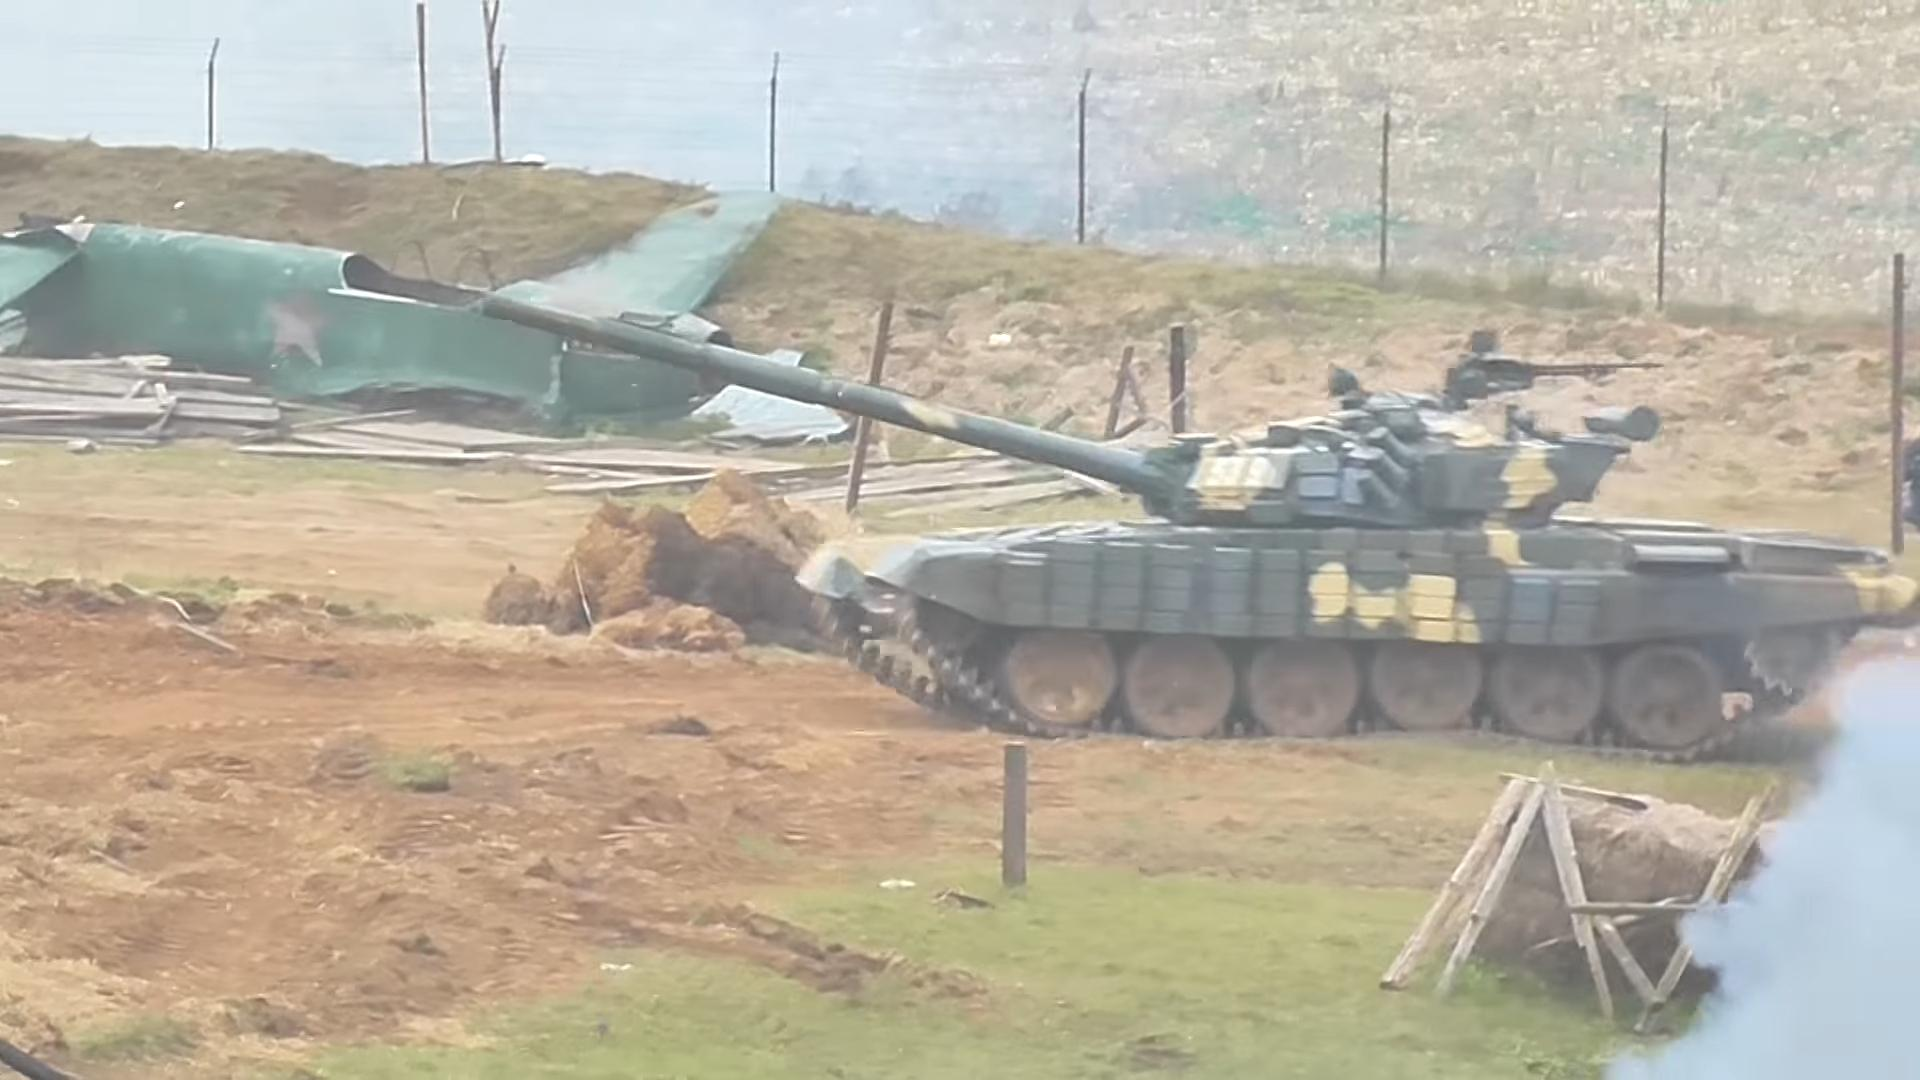tank: (484, 289, 1919, 764)
